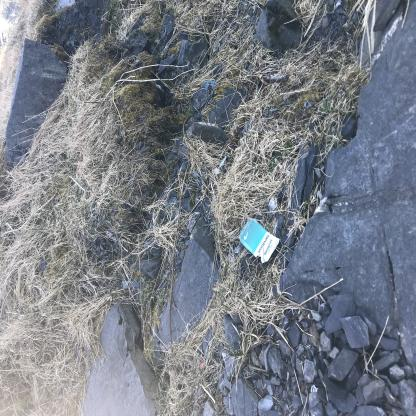trash: (111, 317, 151, 376)
